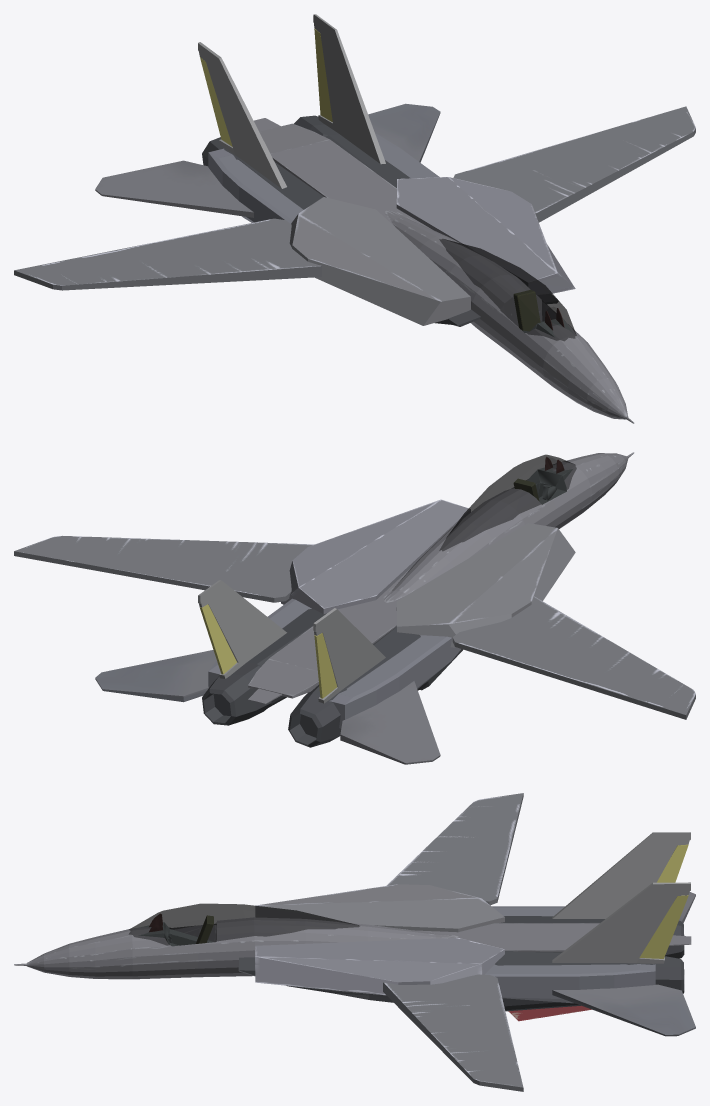
3 views of the same model, one above another, from view 1: azimuth 30°, elevation 25°; view 2: azimuth 150°, elevation 25°; view 3: azimuth 270°, elevation 25° (orthographic). The views are drawn at different scales.
Parts seen in each view (by area): view 1: cockpit_frame, right_wing_cover, right_wing, left_wing, left_wing_covers, cabin_glass, right_elevator, elevator_frame, left_rudder_frame, right_rudder_frame, engines, left_elevator (+4 smaller); view 2: cockpit_frame, right_wing, right_wing_cover, left_wing, left_wing_covers, engines, elevator_frame, cabin_glass, right_elevator, left_elevator, left_rudder_frame, right_rudder_frame (+4 smaller); view 3: cockpit_frame, left_wing_covers, left_wing, right_wing, right_wing_cover, cabin_glass, elevator_frame, left_rudder_frame, engines, right_rudder_frame, left_elevator, cabin_glass_inside (+3 smaller).
Boxes of the visible parts, bbox=[...] form: cockpit_frame: bbox=[254, 118, 634, 423]; right_wing_cover: bbox=[289, 197, 470, 325]; right_wing: bbox=[14, 218, 321, 290]; left_wing: bbox=[453, 106, 695, 222]; left_wing_covers: bbox=[396, 177, 575, 294]; cabin_glass: bbox=[439, 239, 576, 340]; right_elevator: bbox=[95, 160, 253, 217]; elevator_frame: bbox=[208, 133, 439, 223]; left_rudder_frame: bbox=[313, 14, 385, 164]; right_rudder_frame: bbox=[198, 42, 286, 188]; engines: bbox=[202, 115, 558, 326]; left_elevator: bbox=[368, 103, 440, 162]; cockpit_frame: bbox=[248, 452, 634, 704]; right_wing: bbox=[452, 596, 695, 719]; right_wing_cover: bbox=[396, 523, 575, 647]; left_wing: bbox=[14, 535, 314, 602]; left_wing_covers: bbox=[281, 499, 470, 614]; engines: bbox=[202, 609, 462, 747]; elevator_frame: bbox=[208, 598, 460, 728]; cabin_glass: bbox=[439, 455, 576, 550]; right_elevator: bbox=[340, 681, 440, 764]; left_elevator: bbox=[95, 650, 216, 702]; left_rudder_frame: bbox=[198, 580, 286, 678]; right_rudder_frame: bbox=[313, 608, 385, 703]; cockpit_frame: bbox=[14, 917, 691, 979]; left_wing_covers: bbox=[255, 937, 504, 995]; left_wing: bbox=[383, 974, 523, 1091]; right_wing: bbox=[386, 793, 523, 905]; right_wing_cover: bbox=[255, 884, 504, 932]; cabin_glass: bbox=[129, 904, 359, 945]; elevator_frame: bbox=[485, 906, 655, 1003]; left_rudder_frame: bbox=[552, 882, 690, 963]; engines: bbox=[238, 916, 684, 1021]; right_rudder_frame: bbox=[552, 832, 690, 918]; left_elevator: bbox=[552, 984, 695, 1036]; cabin_glass_inside: bbox=[133, 904, 351, 929].
Bounding box in the file's own units: 2.29 × 0.5116 × 2.24.
Materials: 19 (19 with a texture image).
